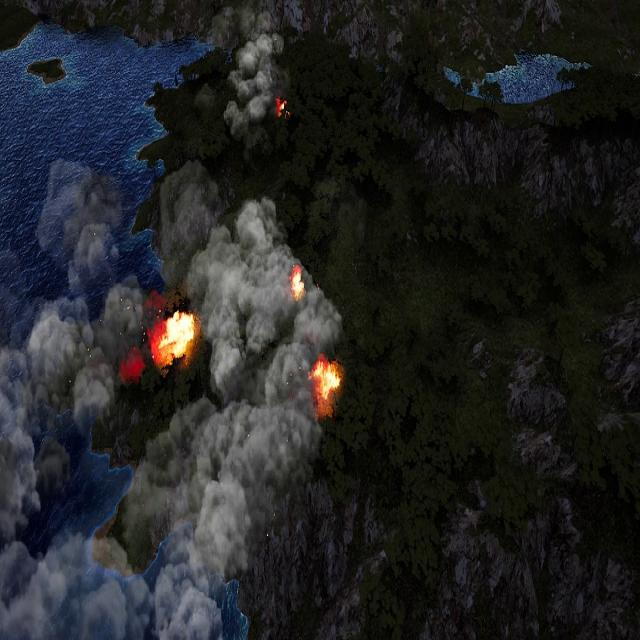fire: (154, 310, 196, 366), (311, 357, 340, 402), (290, 267, 304, 298), (277, 98, 288, 118)
smoke: (0, 158, 348, 639), (222, 24, 286, 139)
